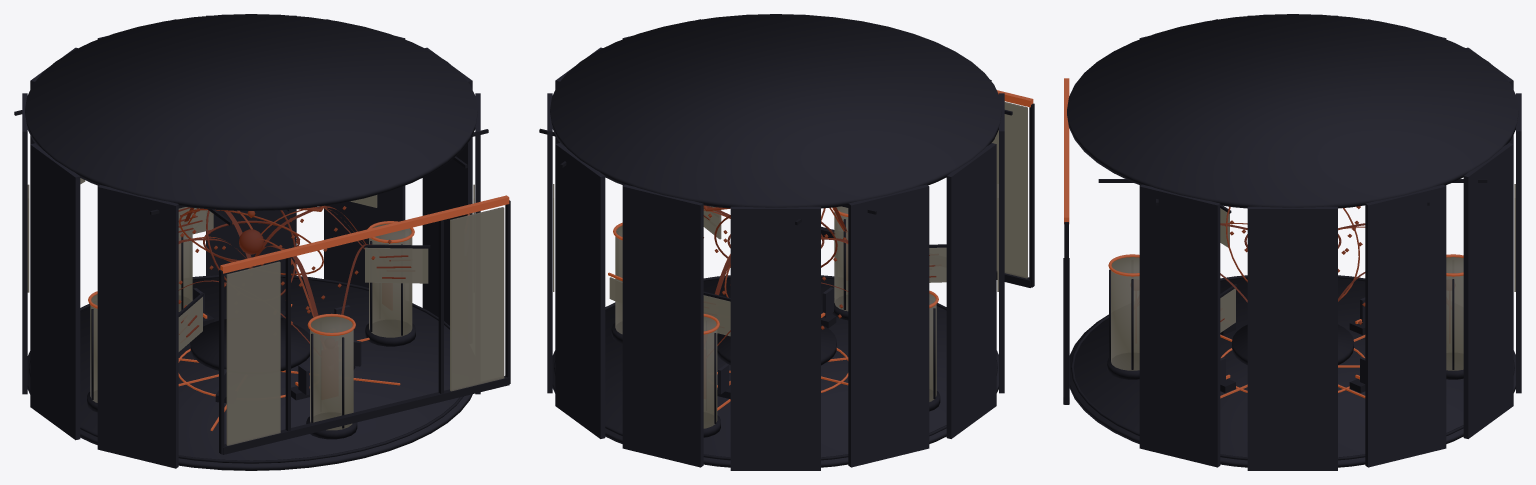
Rendered from chat-int.glb.
3 views of the same model, side by side, from view 1: azimuth 30°, elevation 25°; view 2: azimuth 150°, elevation 25°; view 3: azimuth 270°, elevation 25° (orthographic).
Parts seen in each view (by area): view 1: circular_room_ceiling_disc, circular_room_floor_disc, curved_wall_panel_08, curved_wall_panel_07, front_city_window_glass_1, front_city_window_glass_0, curved_wall_panel_01, calling_booth_south_glass_shell, curved_wall_panel_02, curved_wall_panel_03, front_window_bottom_sill, front_window_top_lintel (+16 smaller); view 2: circular_room_ceiling_disc, curved_wall_panel_05, curved_wall_panel_04, curved_wall_panel_06, curved_wall_panel_07, curved_wall_panel_03, circular_room_floor_disc, front_city_window_glass_0, curved_wall_panel_08, curved_wall_panel_02, calling_booth_north_glass_shell, calling_booth_south_glass_shell (+7 smaller); view 3: circular_room_ceiling_disc, curved_wall_panel_01, curved_wall_panel_02, curved_wall_panel_00, curved_wall_panel_03, circular_room_floor_disc, calling_booth_south_glass_shell, calling_booth_north_glass_shell, curved_wall_panel_04, floor_outer_service_ring, central_collaboration_table_top, front_window_mullion_3 (+2 smaller).
Part boxes in pixels (box(x1,y1,x2,y2)): circular_room_ceiling_disc: box(25, 14, 477, 210); circular_room_floor_disc: box(27, 277, 472, 470); curved_wall_panel_08: box(97, 185, 178, 468); curved_wall_panel_07: box(30, 143, 80, 440); front_city_window_glass_1: box(450, 207, 504, 391); front_city_window_glass_0: box(226, 261, 280, 445); curved_wall_panel_01: box(422, 47, 472, 325); calling_booth_south_glass_shell: box(310, 316, 353, 430); curved_wall_panel_02: box(324, 19, 405, 287); curved_wall_panel_03: box(206, 15, 296, 275); front_window_bottom_sill: box(222, 376, 509, 454); front_window_top_lintel: box(220, 195, 509, 273); circular_room_ceiling_disc: box(550, 14, 1001, 208); curved_wall_panel_05: box(730, 206, 820, 470); curved_wall_panel_04: box(622, 184, 703, 467); curved_wall_panel_06: box(848, 184, 929, 467); curved_wall_panel_07: box(946, 143, 996, 438); curved_wall_panel_03: box(555, 143, 605, 438); circular_room_floor_disc: box(552, 278, 998, 467); front_city_window_glass_0: box(992, 102, 1027, 278); curved_wall_panel_08: box(999, 93, 1004, 393); curved_wall_panel_02: box(547, 93, 552, 393); calling_booth_north_glass_shell: box(703, 316, 717, 428); calling_booth_south_glass_shell: box(834, 206, 848, 311); circular_room_ceiling_disc: box(1067, 14, 1518, 208); curved_wall_panel_01: box(1247, 206, 1337, 470); curved_wall_panel_02: box(1365, 184, 1446, 467); curved_wall_panel_00: box(1139, 184, 1220, 467); curved_wall_panel_03: box(1463, 143, 1513, 438); circular_room_floor_disc: box(1069, 278, 1515, 467); calling_booth_south_glass_shell: box(1111, 257, 1139, 370); calling_booth_north_glass_shell: box(1446, 257, 1463, 370); curved_wall_panel_04: box(1516, 93, 1521, 393); floor_outer_service_ring: box(1071, 275, 1514, 460); central_collaboration_table_top: box(1232, 324, 1353, 364); front_window_mullion_3: box(1064, 222, 1068, 404).
Bounding box in the file's own units: 10.12 × 6.47 × 10.14.
